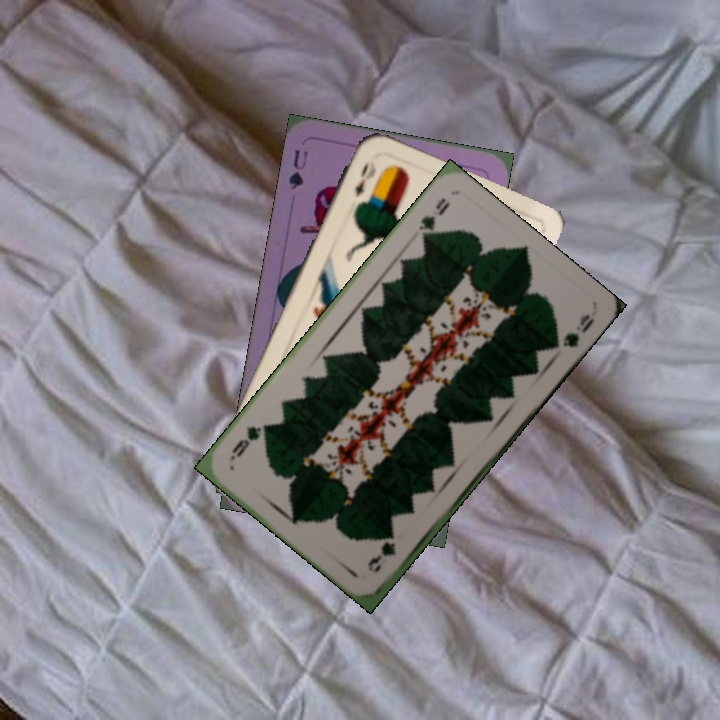EO: (350, 156, 379, 199)
G9: (414, 193, 453, 245), (363, 538, 399, 576)
GU: (284, 145, 311, 192)
